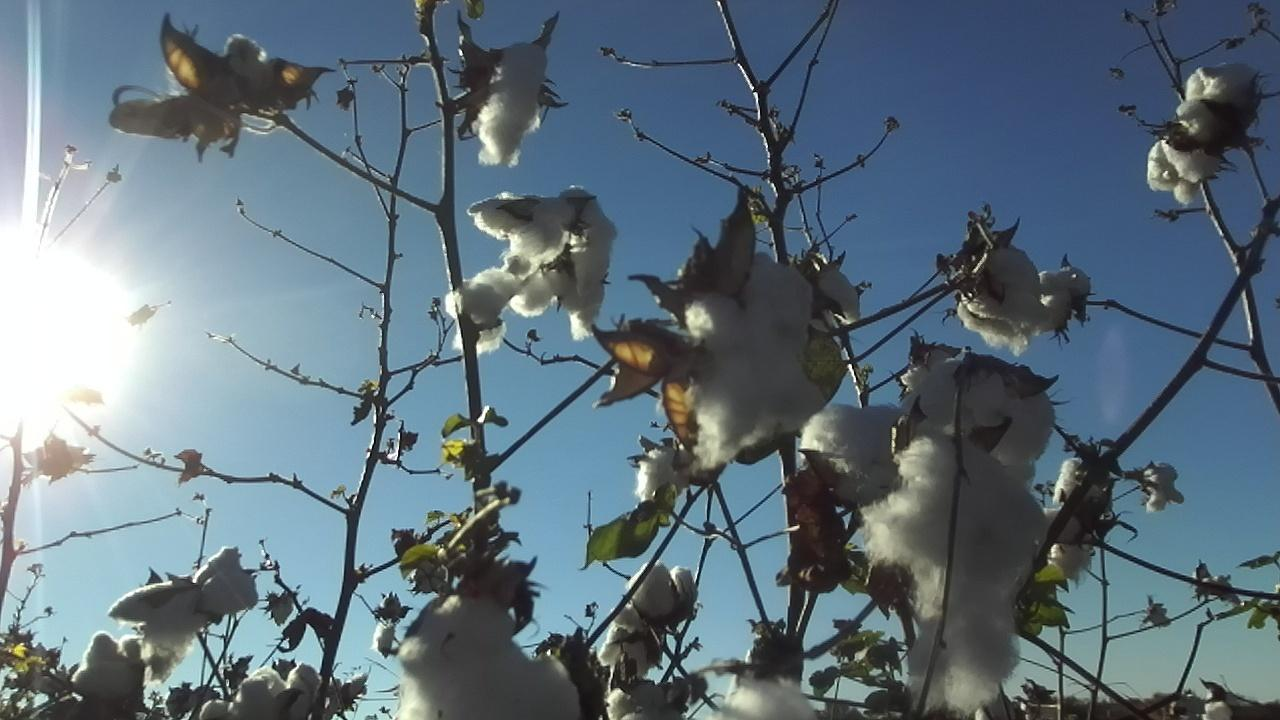cotton_ready: (865, 435, 1046, 712), (682, 250, 826, 463), (395, 597, 577, 720), (475, 190, 617, 346), (907, 347, 1049, 479), (107, 547, 259, 648), (599, 562, 694, 687), (804, 404, 910, 510), (959, 244, 1052, 354), (475, 45, 545, 170), (1052, 460, 1112, 583), (199, 665, 319, 720), (1175, 61, 1258, 140), (72, 632, 147, 706), (217, 37, 295, 104), (1149, 134, 1222, 204), (447, 283, 507, 354), (719, 677, 816, 720), (601, 675, 689, 720), (634, 441, 690, 507), (1040, 265, 1092, 331), (817, 271, 865, 330)
